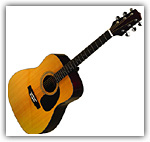guitar: (8, 8, 143, 134)
